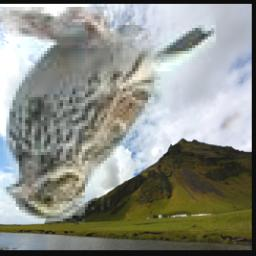Sparrow: (0, 8, 216, 224)
